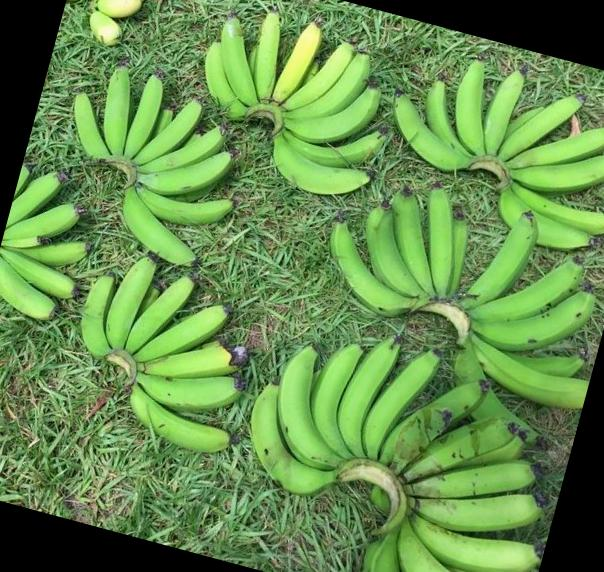Banana Unripe: (201, 308, 585, 572)
